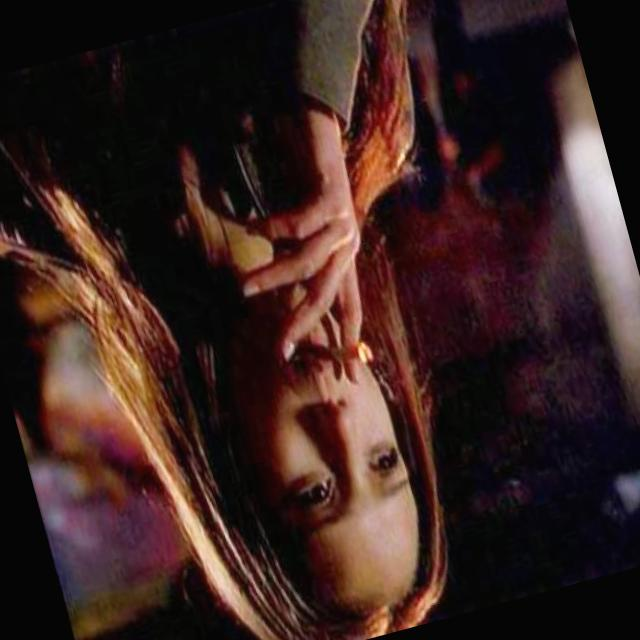cigarette: (282, 300, 400, 394)
